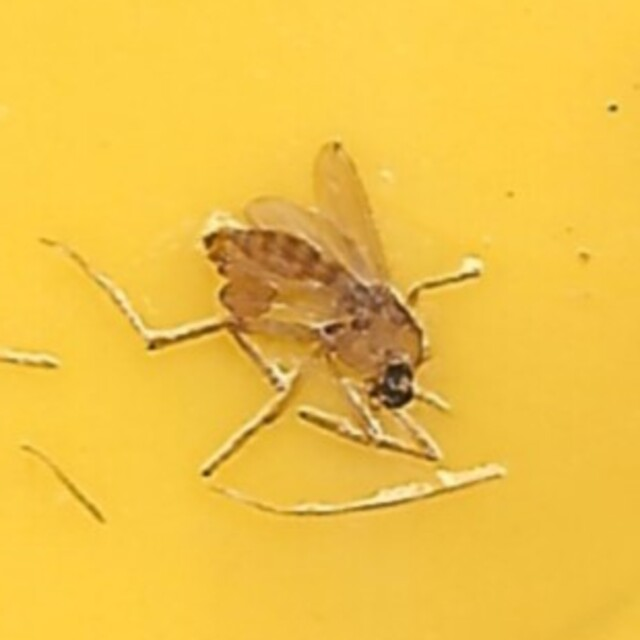Nematocera: (206, 218, 434, 422)
